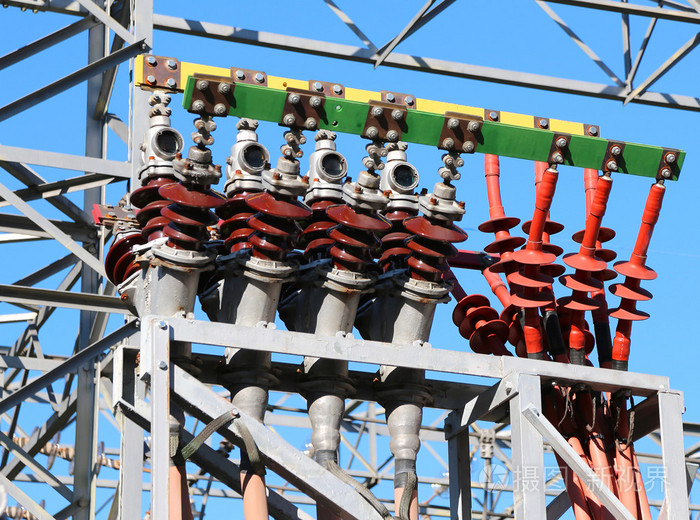insulator: (163, 175, 220, 246), (402, 210, 461, 277), (329, 204, 383, 270), (610, 258, 660, 328), (250, 192, 304, 256), (454, 291, 506, 355), (559, 251, 604, 321), (510, 246, 557, 312), (129, 177, 166, 236), (481, 210, 518, 268), (221, 189, 253, 254), (305, 195, 339, 256), (382, 206, 411, 273), (105, 232, 141, 281)
